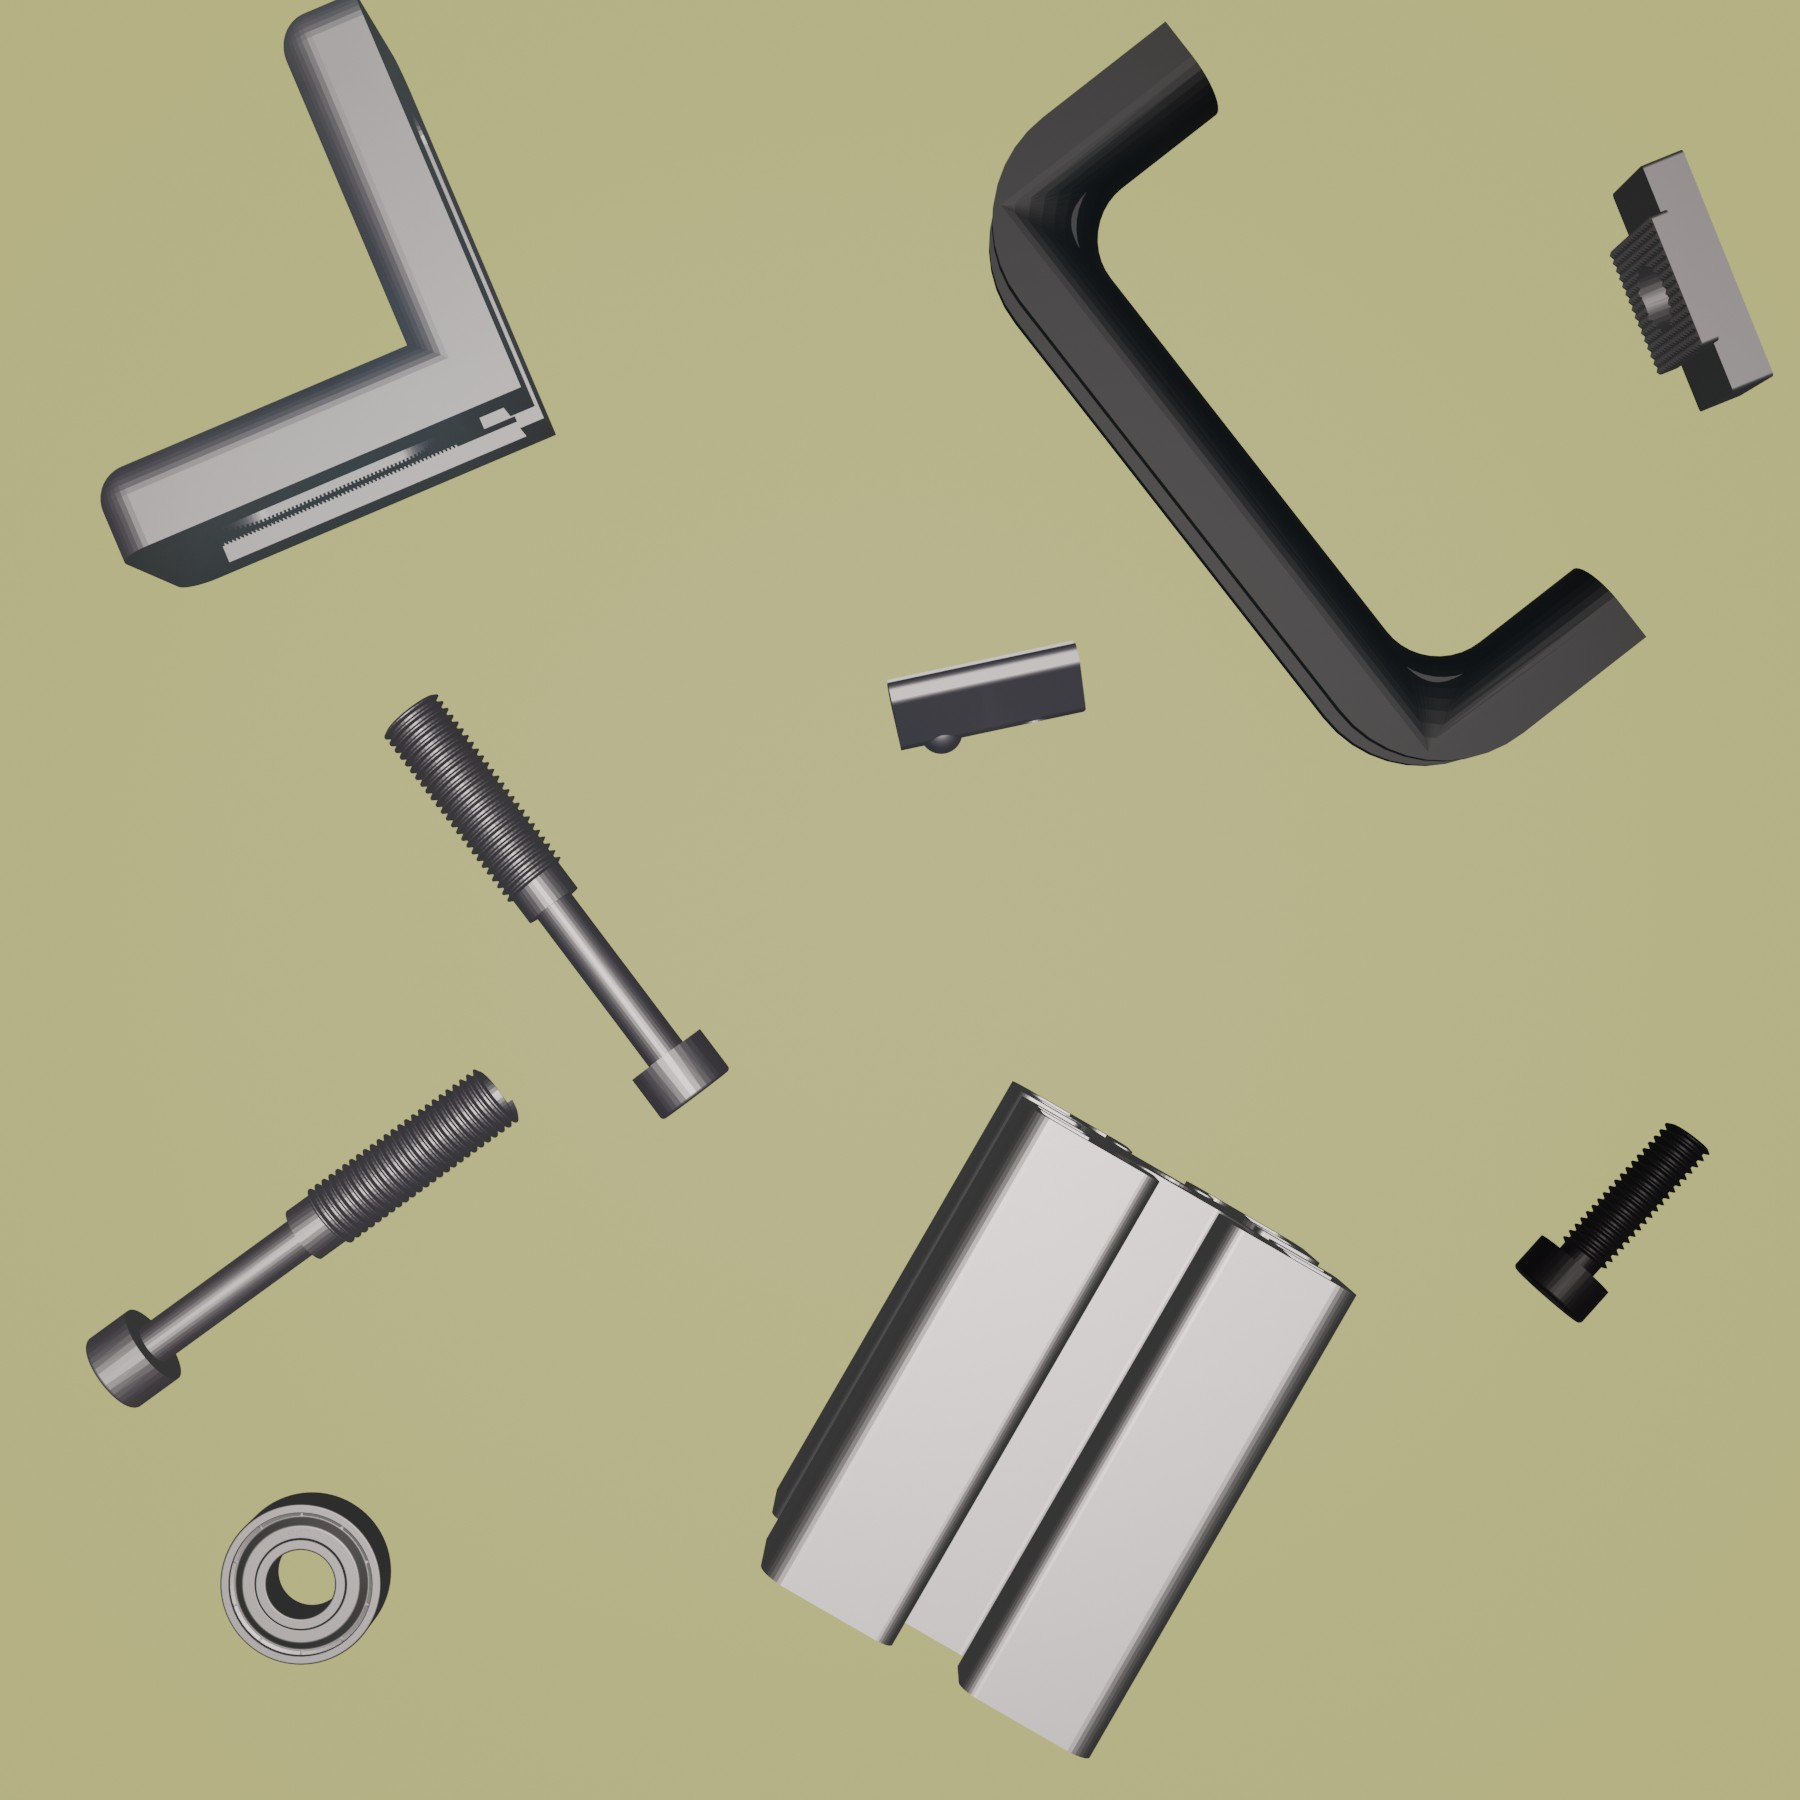Aluminium Extension: (758, 1076, 1358, 1764)
Ball Bearing: (216, 1488, 392, 1668)
Multiwinkel: (97, 2, 559, 592)
Pull Handle: (986, 20, 1647, 768)
Shoulder Socket Head Cap Screw: (82, 1066, 519, 1409), (382, 692, 730, 1123)
Socket Head Cap Screw: (1515, 1116, 1711, 1325)
T Nut Square: (1609, 147, 1775, 414)
T Spring Nut: (885, 638, 1090, 757)
